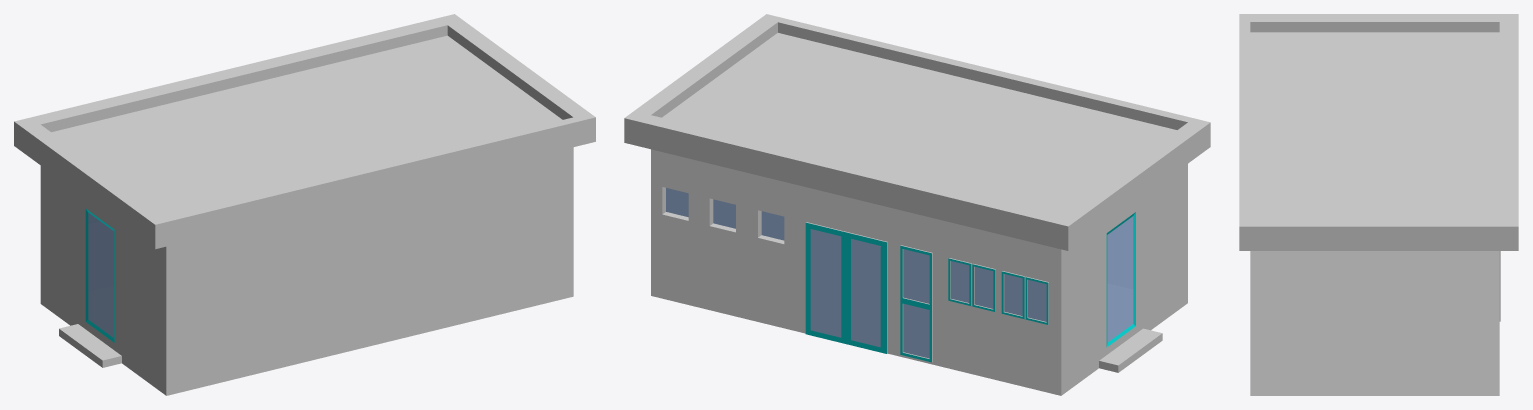
The model's file is Nhà bảo vệ.fbx.
3 renders of one model, left to right at view 1: azimuth 30°, elevation 25°; view 2: azimuth 150°, elevation 25°; view 3: azimuth 270°, elevation 25°, orthographic.
Visible parts, largest first — view 1: Nhabaove_LOD0; view 2: Nhabaove_LOD0; view 3: Nhabaove_LOD0.
Boxes of the visible parts, bbox=[...] form: Nhabaove_LOD0: bbox=[14, 14, 595, 395]; Nhabaove_LOD0: bbox=[624, 14, 1210, 395]; Nhabaove_LOD0: bbox=[1239, 14, 1518, 395].
Size of what is drawn, in the model's own units: 842 by 326 by 465.
